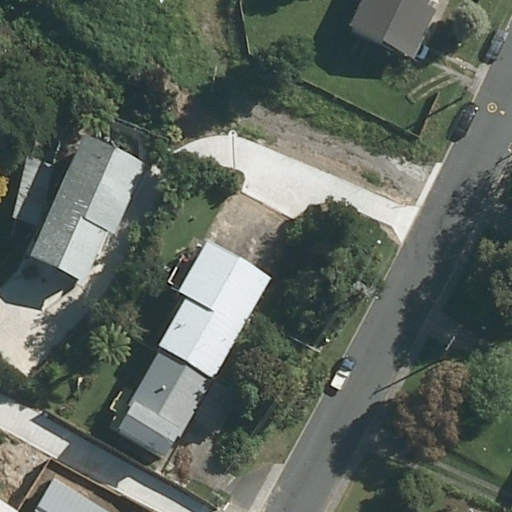DT: (346, 278, 377, 306), (453, 80, 478, 104)
